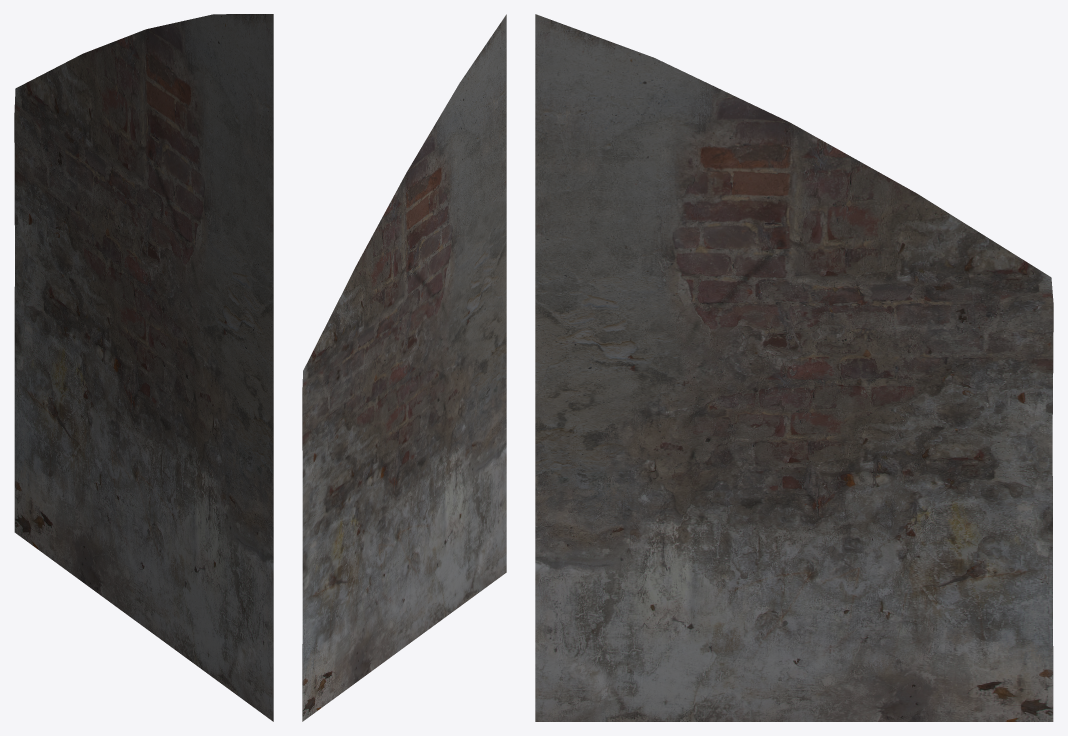
Rendered from sm_CryptWall_02_01.fbx.
The picture shows the model from 3 angles, left to right: view 1: azimuth 30°, elevation 25°; view 2: azimuth 150°, elevation 25°; view 3: azimuth 270°, elevation 25°; orthographic projection. The views are drawn at different scales.
Visible parts, largest first — view 1: sm_CryptWall_02_01_LOD0; view 2: sm_CryptWall_02_01_LOD0; view 3: sm_CryptWall_02_01_LOD0.
Part boxes in pixels (box(x1,y1,x2,y2)): sm_CryptWall_02_01_LOD0: box(14, 14, 273, 721); sm_CryptWall_02_01_LOD0: box(302, 14, 506, 721); sm_CryptWall_02_01_LOD0: box(535, 14, 1053, 721).
Size of the model in its own units: 0.000245 by 190 by 287.
